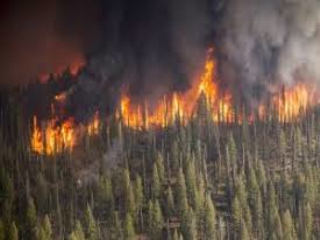fire: (111, 66, 238, 126), (16, 106, 109, 153), (258, 87, 318, 124)
smoke: (225, 6, 320, 84), (58, 21, 124, 111)
